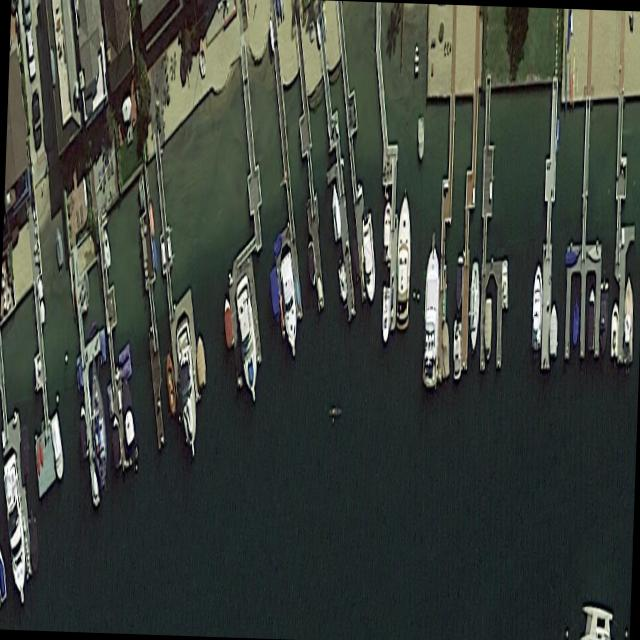ship: (2, 450, 29, 610), (176, 313, 199, 463), (235, 272, 260, 407), (422, 226, 440, 386), (88, 349, 107, 490), (396, 192, 413, 327), (280, 248, 299, 360), (120, 371, 138, 468), (361, 209, 375, 304), (531, 262, 544, 349), (50, 409, 65, 482), (622, 277, 634, 363), (469, 258, 480, 348), (164, 347, 177, 419), (27, 510, 39, 576), (330, 179, 341, 244), (599, 281, 608, 352), (222, 292, 233, 350), (111, 408, 121, 470), (79, 398, 89, 459), (270, 263, 280, 324), (196, 329, 206, 389), (20, 425, 29, 488), (53, 223, 64, 274), (483, 296, 492, 358), (587, 287, 596, 347), (383, 200, 392, 260), (382, 285, 391, 344), (610, 298, 619, 354), (548, 303, 558, 353), (306, 239, 316, 288), (441, 321, 449, 379), (351, 240, 361, 285), (0, 540, 7, 604), (197, 33, 206, 82), (455, 253, 463, 308), (571, 301, 580, 348), (338, 257, 347, 304), (102, 225, 111, 269), (501, 258, 508, 310), (417, 114, 424, 162), (586, 243, 601, 263), (564, 247, 576, 269), (414, 43, 419, 75)
small-vehicle: (24, 21, 37, 81), (31, 85, 43, 147)
